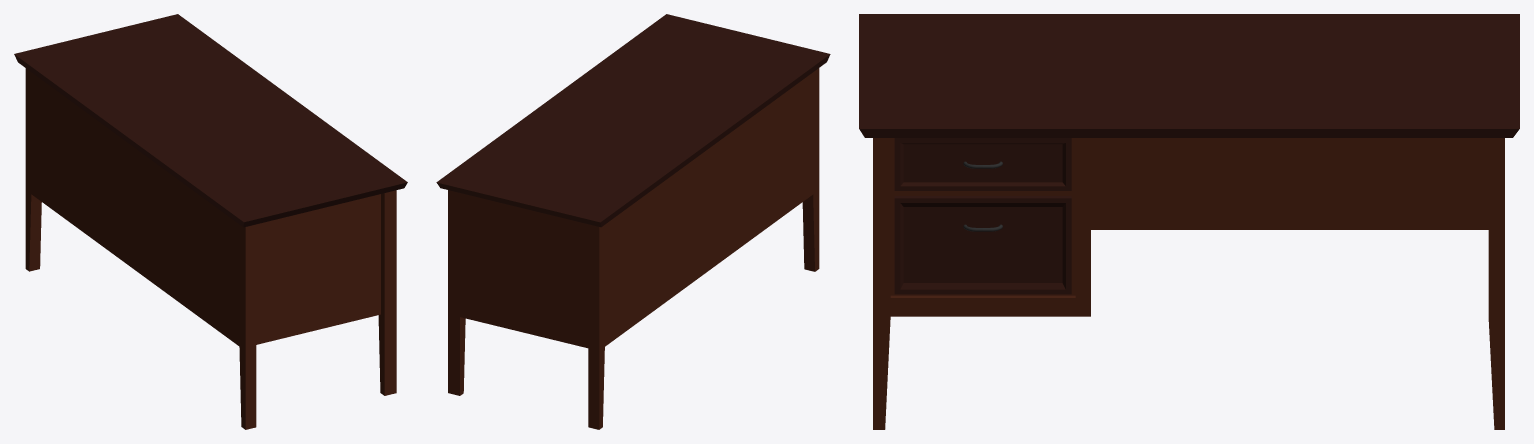
Rendered from Bureau.fbx.
The picture shows the model from 3 angles, left to right: view 1: azimuth 30°, elevation 25°; view 2: azimuth 150°, elevation 25°; view 3: azimuth 270°, elevation 25°; orthographic projection. The views are drawn at different scales.
Parts seen in each view (by area): view 1: Bureau; view 2: Bureau; view 3: Bureau.
Boxes of the visible parts, x1=… form: Bureau: x1=14, y1=14, x2=407, y2=429; Bureau: x1=436, y1=14, x2=830, y2=429; Bureau: x1=859, y1=14, x2=1519, y2=429.
Bounding box in the file's own units: 64.76 × 80.32 × 157.
